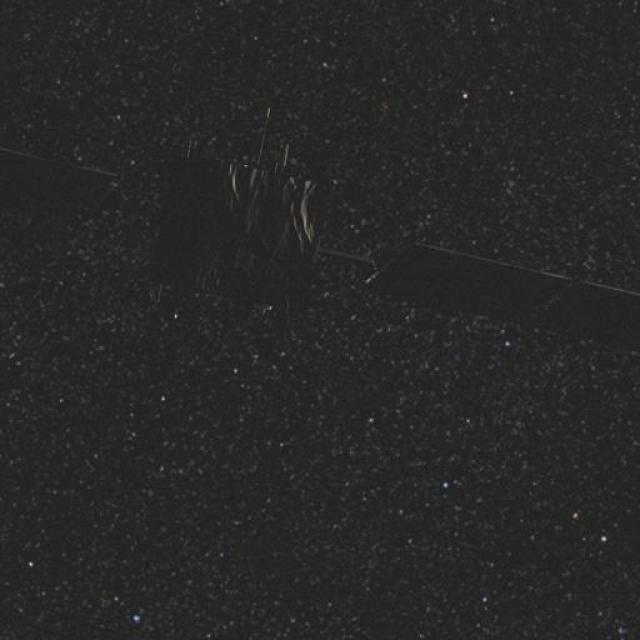smart_1: (125, 103, 425, 316)
